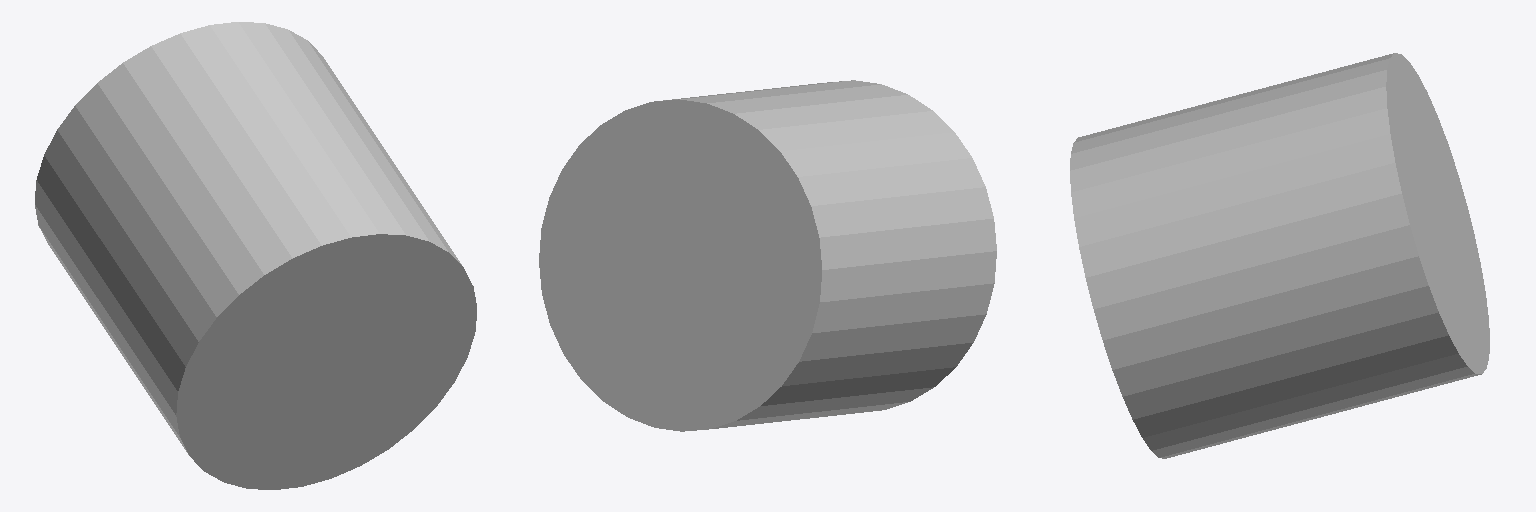
Rendered from planeYokeButtonBase.obj.
3 renders of one model, left to right at view 1: azimuth 30°, elevation 25°; view 2: azimuth 150°, elevation 25°; view 3: azimuth 270°, elevation 25°, orthographic.
Parts seen in each view (by area): view 1: Cylinder.076_Cylinder.067; view 2: Cylinder.076_Cylinder.067; view 3: Cylinder.076_Cylinder.067.
Boxes of the visible parts, box(x1,y1,x2,y2) form: Cylinder.076_Cylinder.067: box(35, 22, 476, 489); Cylinder.076_Cylinder.067: box(539, 80, 996, 431); Cylinder.076_Cylinder.067: box(1070, 53, 1489, 458).
Size of the model in its own units: 1.11 by 1.33 by 1.33.